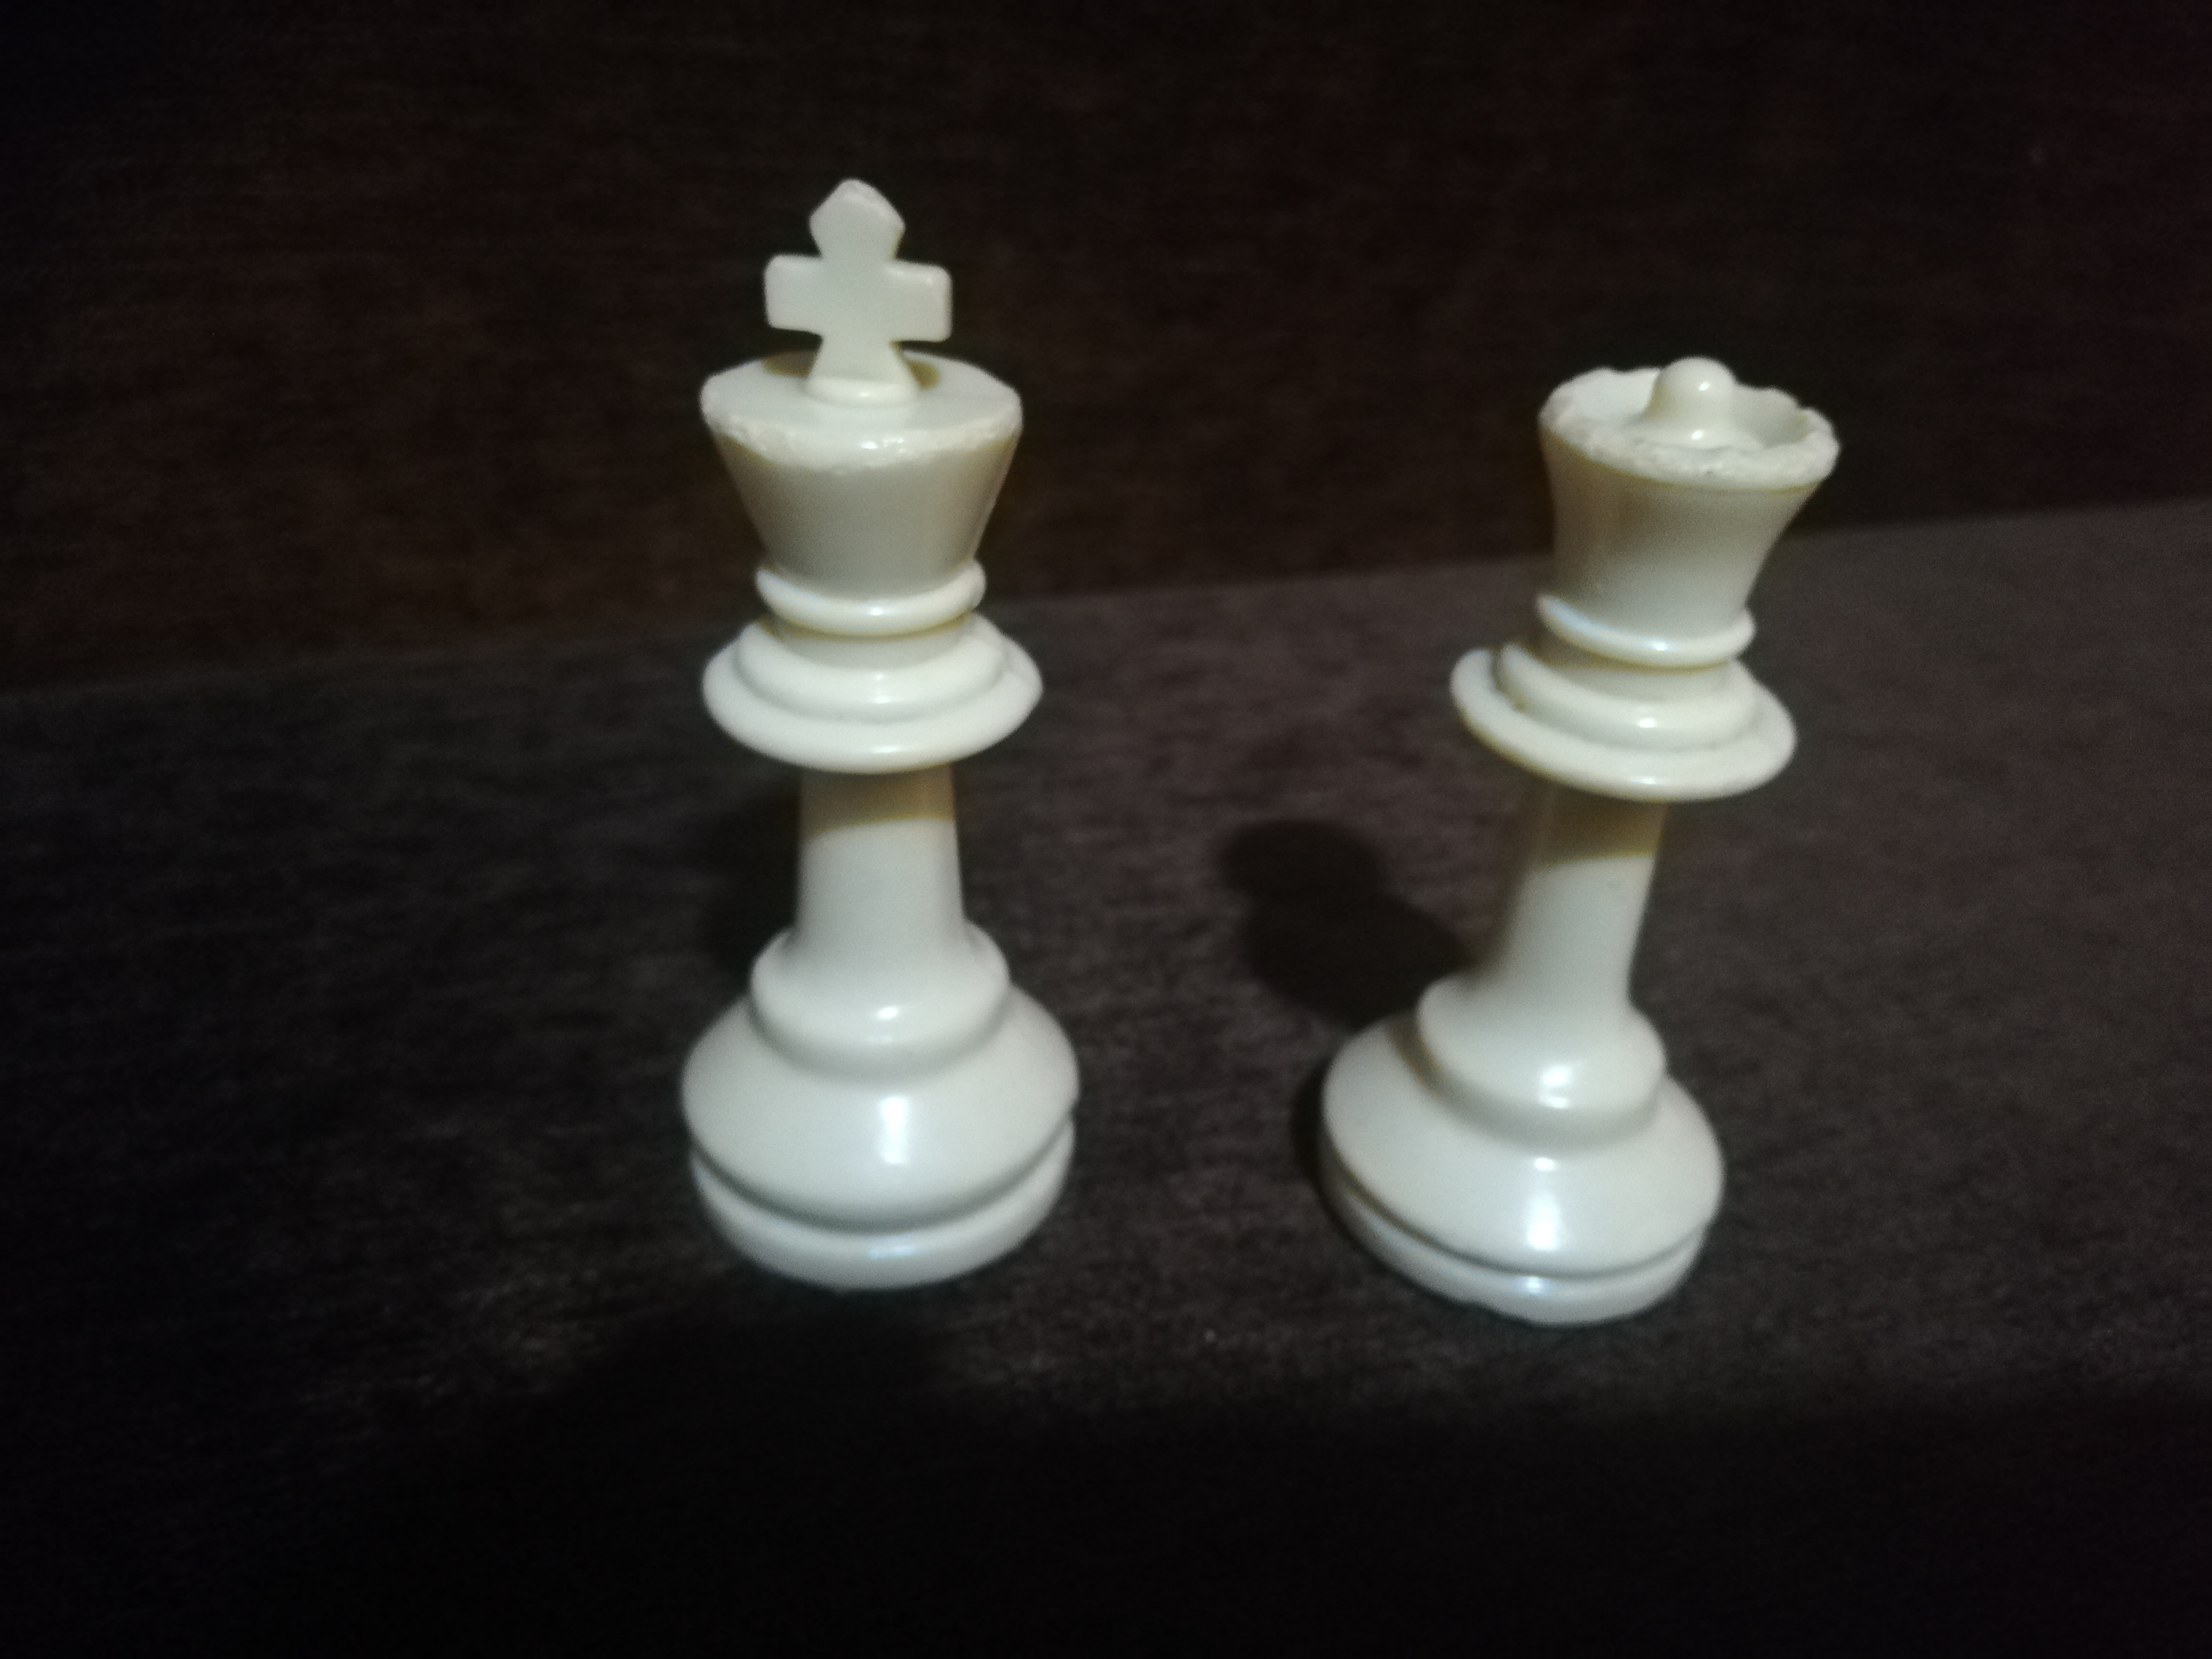King: (655, 180, 1131, 1277)
Queen: (1316, 287, 1843, 1318)
